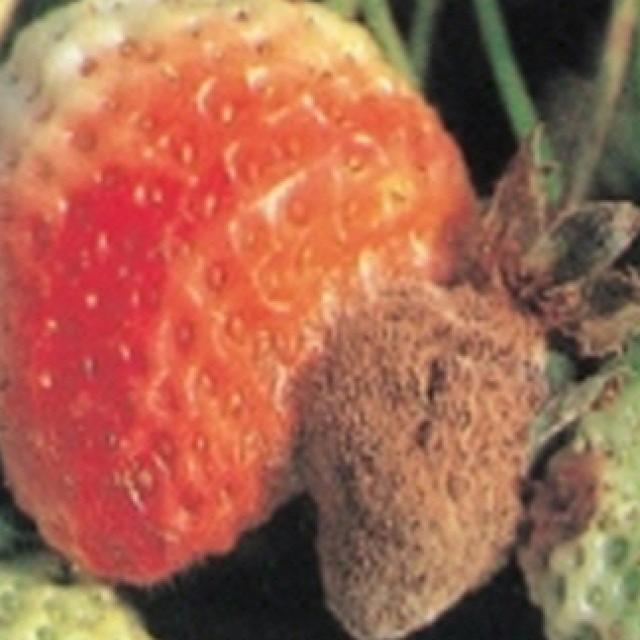Gray Mold: (293, 125, 640, 640)
